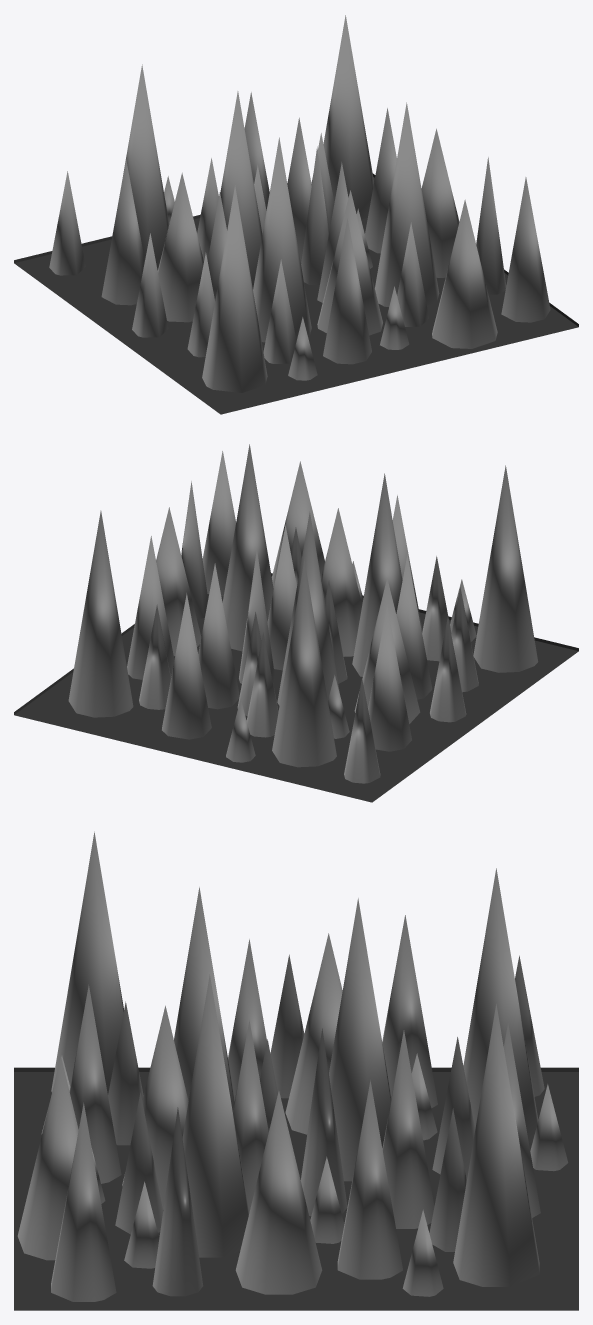
File: Spike_Pit_03.fbx
3 views of the same model, one above another, from view 1: azimuth 30°, elevation 25°; view 2: azimuth 150°, elevation 25°; view 3: azimuth 270°, elevation 25° (orthographic). The views are drawn at different scales.
Parts seen in each view (by area): view 1: pCone38; view 2: pCone38; view 3: pCone38.
Boxes of the visible parts, x1,y1,x2,y2 form: pCone38: (14, 15, 578, 414); pCone38: (14, 444, 578, 802); pCone38: (14, 831, 578, 1310).
Size of the model in its own units: 5 by 2.64 by 5.
1 material, 1 textured.
